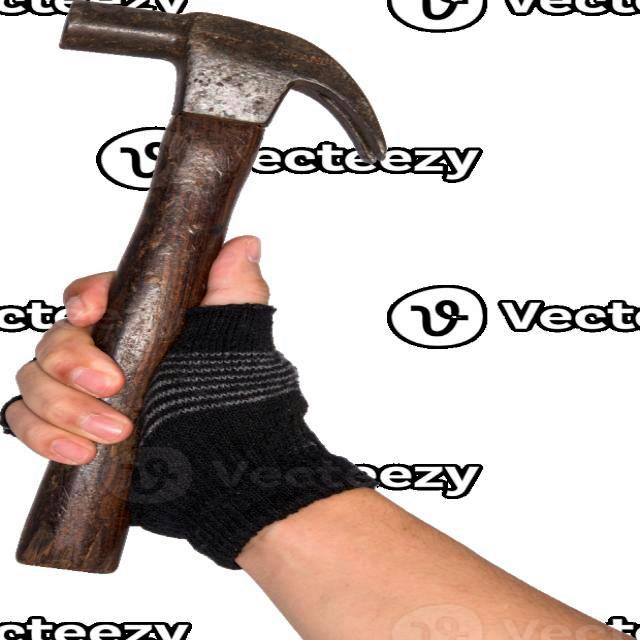hammer: (2, 0, 396, 584)
